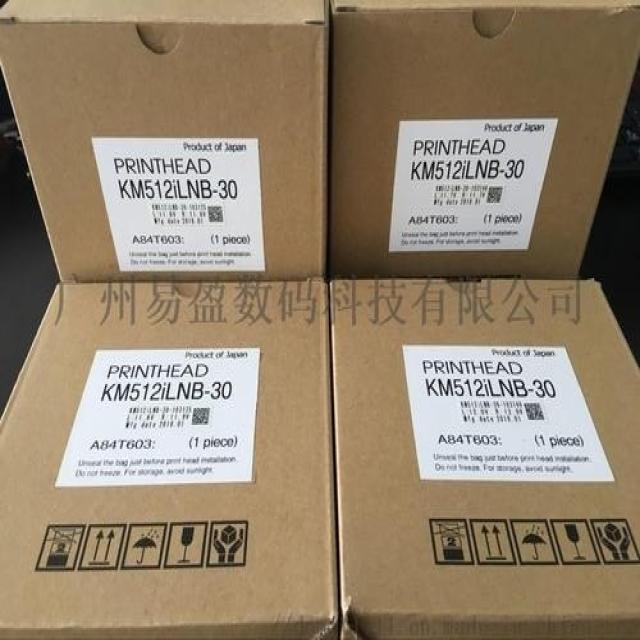box: (0, 278, 339, 638), (329, 277, 638, 638), (0, 3, 330, 280), (326, 3, 638, 282)
